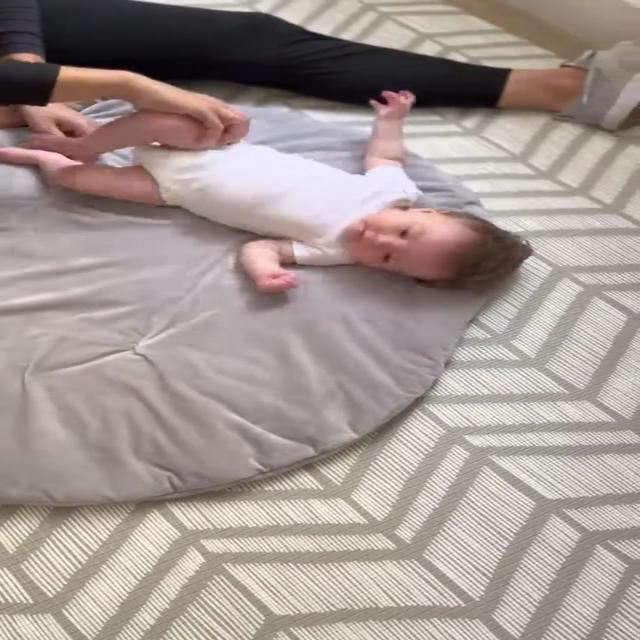baby: (7, 89, 533, 294)
